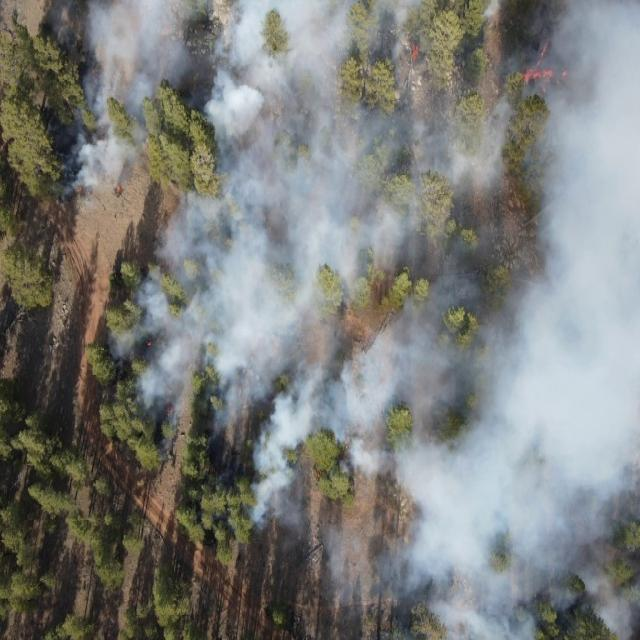fire: (522, 37, 560, 99), (406, 40, 422, 61), (560, 68, 571, 80), (76, 184, 86, 195), (314, 469, 323, 481), (166, 404, 176, 414), (114, 186, 122, 197), (146, 338, 154, 348)
smoke: (47, 0, 640, 214), (148, 212, 640, 453), (372, 455, 548, 640), (548, 453, 640, 607), (304, 516, 371, 616), (243, 452, 304, 542), (129, 273, 149, 419), (595, 606, 640, 639), (337, 455, 373, 484), (106, 326, 130, 360)
